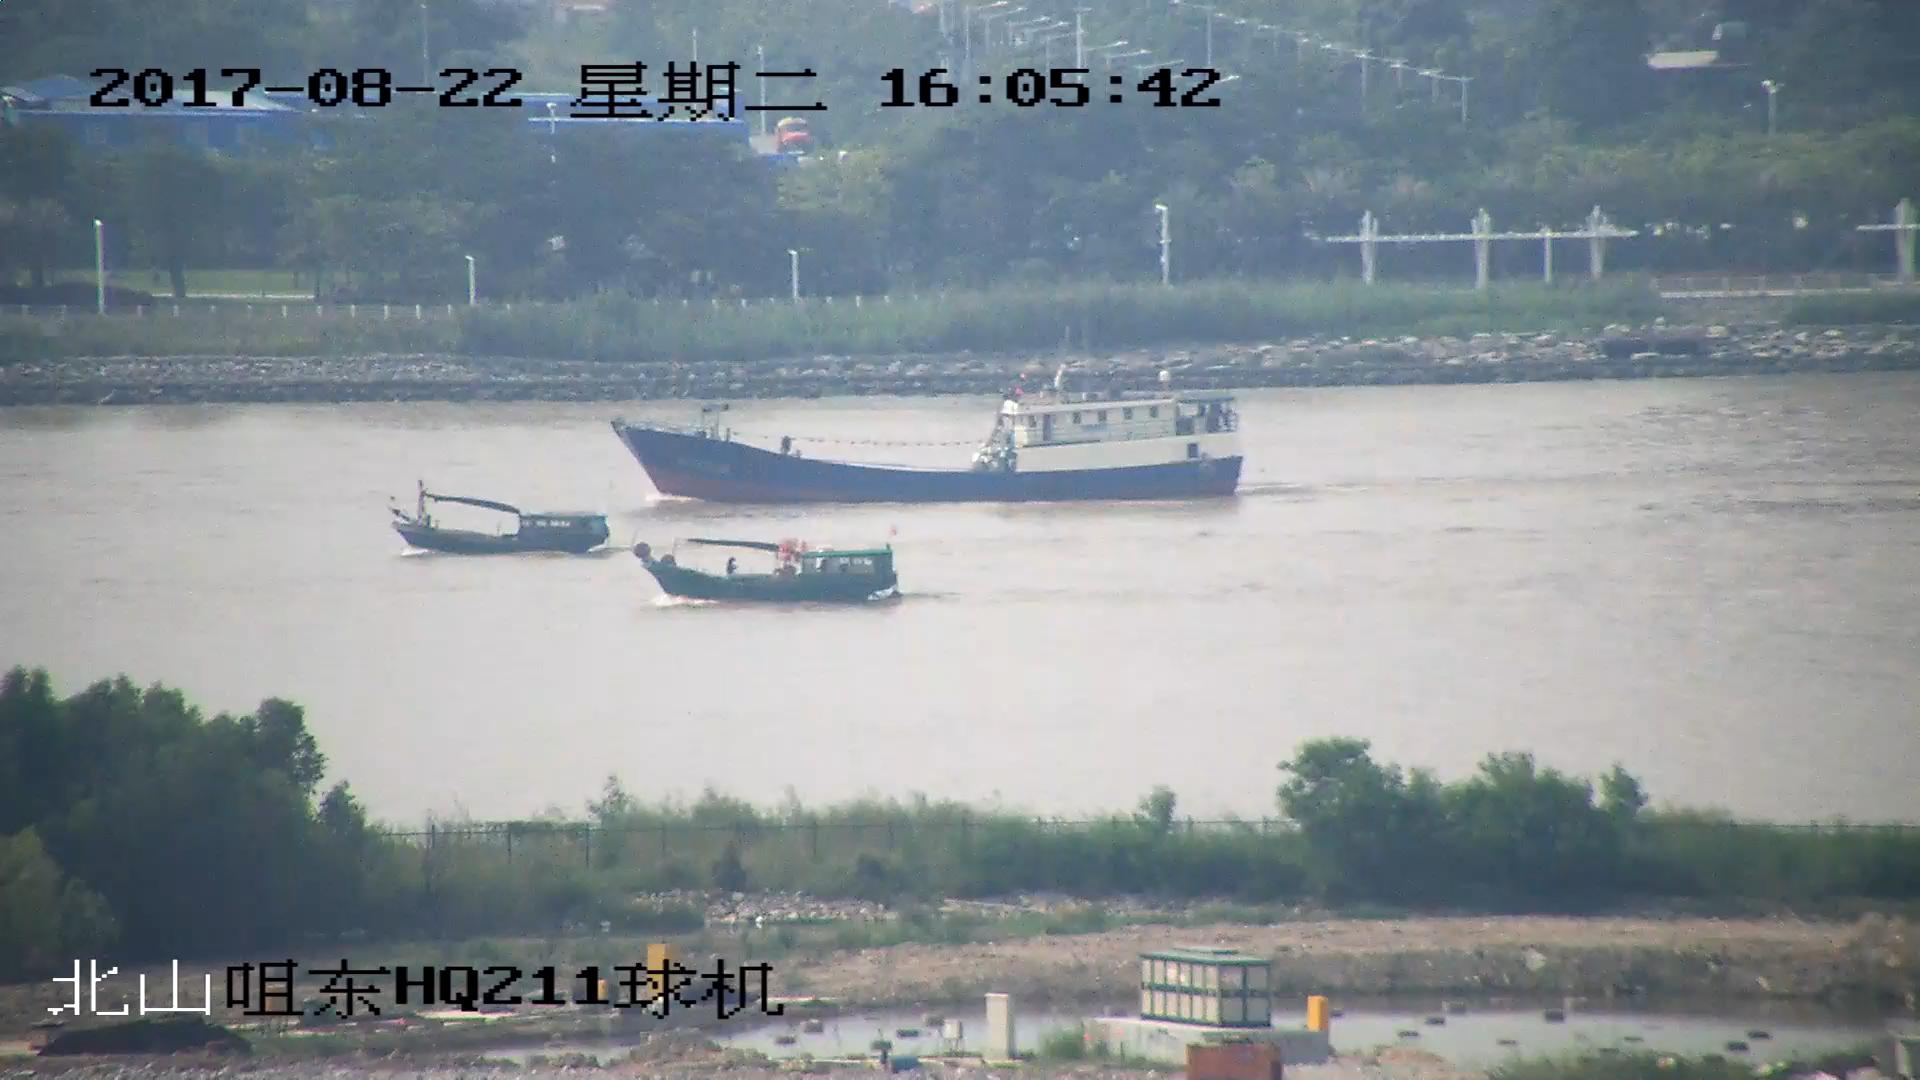fishing boat: (616, 378, 1240, 505), (636, 533, 902, 607), (387, 486, 614, 552)
